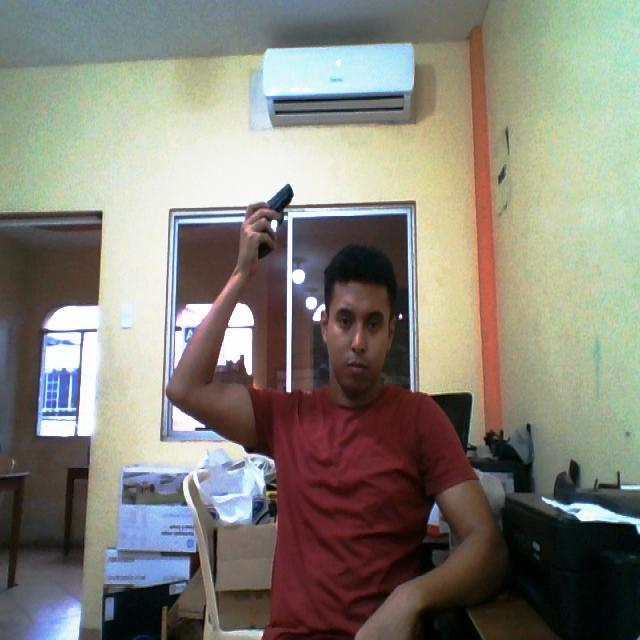Gun: (236, 176, 302, 261)
